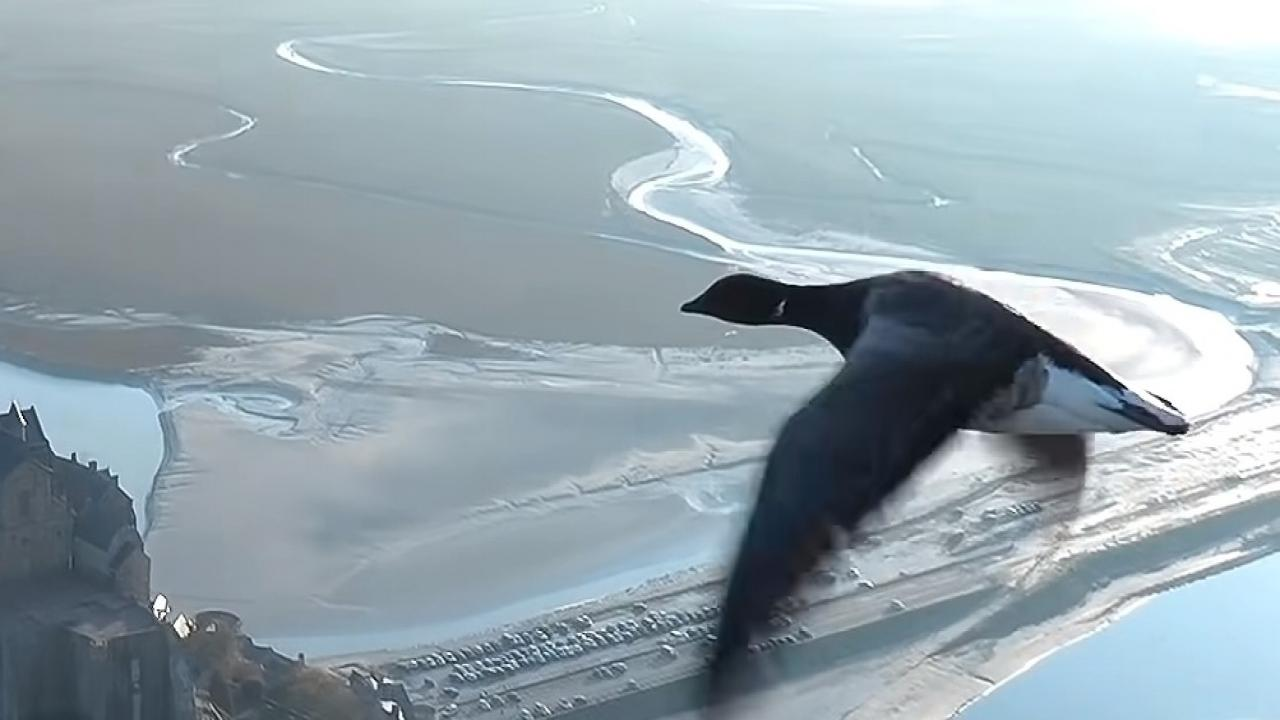Bird: (669, 267, 1198, 717)
